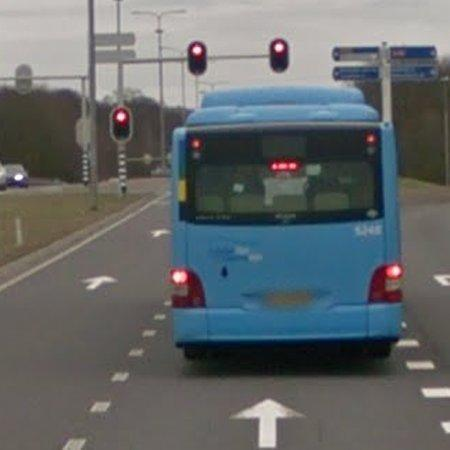buses: (169, 86, 405, 357)
